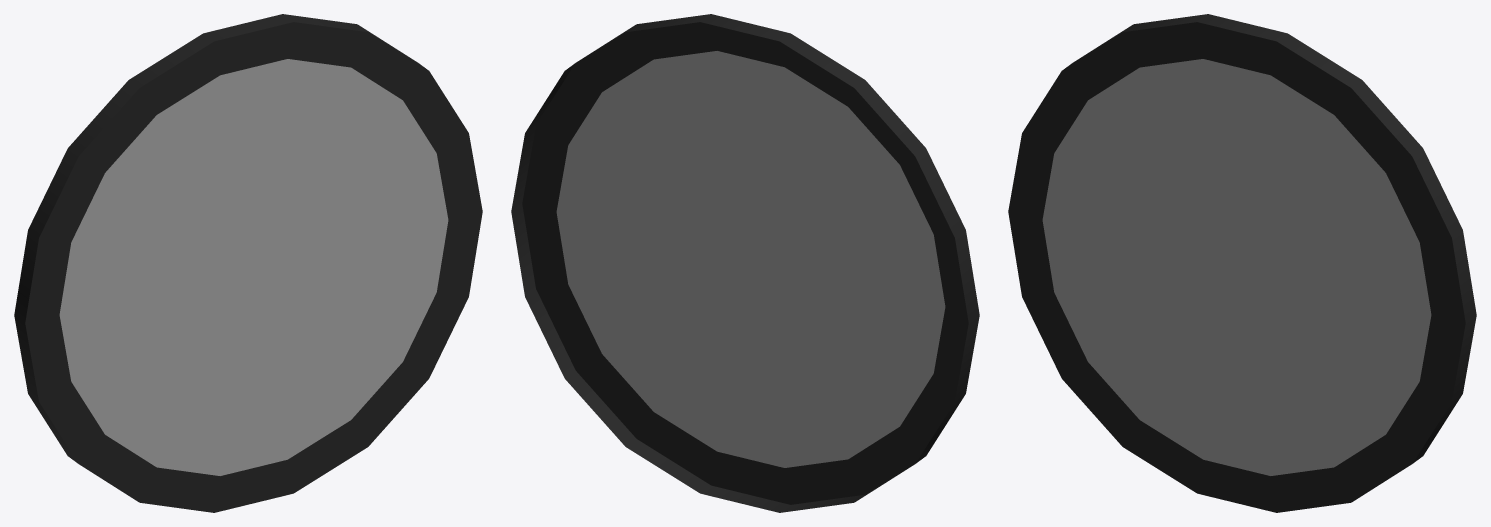
Rendered from Mirror_2A.fbx.
3 views of the same model, side by side, from view 1: azimuth 30°, elevation 25°; view 2: azimuth 150°, elevation 25°; view 3: azimuth 330°, elevation 25° (orthographic).
Visible parts, largest first — view 1: pCylinder78; view 2: pCylinder78; view 3: pCylinder78.
Boxes of the visible parts, x1,y1,x2,y2 form: pCylinder78: (14, 14, 482, 512); pCylinder78: (511, 14, 979, 512); pCylinder78: (1008, 14, 1476, 512).
Size of the model in its own units: 1.2 by 1.18 by 0.05.
Materials: 2 (1 with a texture image).
